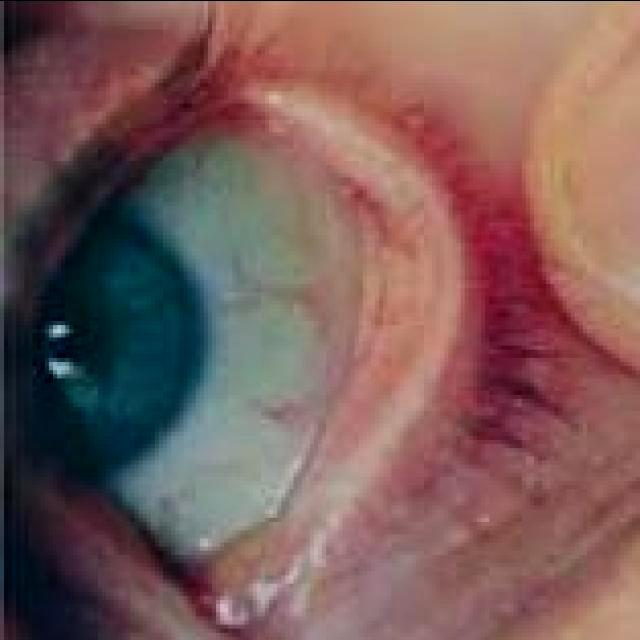conjunctiva_pallor: (219, 96, 448, 604)
